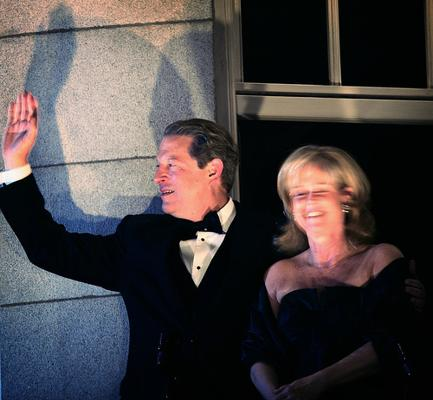person: (1, 93, 277, 400)
